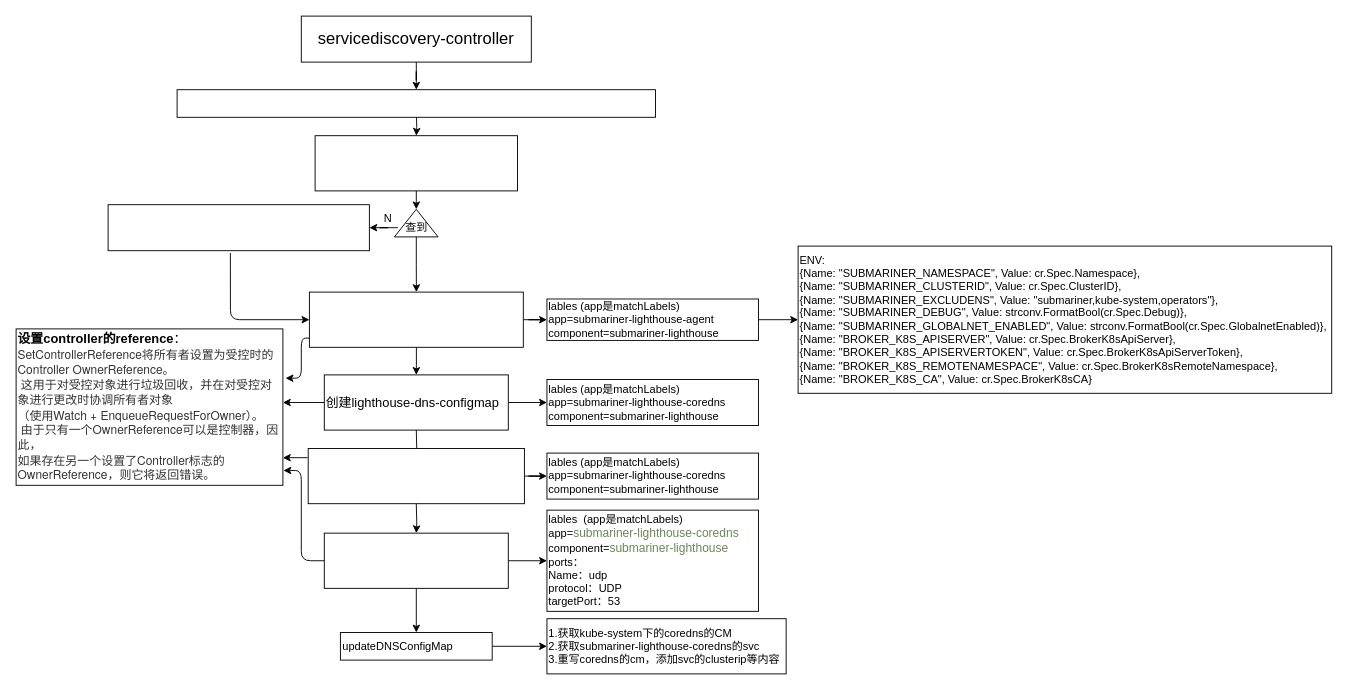
The diagram is 1348 pixels wide and 690 high, and some of its shapes have lost their labels. The shapes that lost their labels are listed below. From the top down, each one's centre as x and y in pixels, then its label:
point 416,103: watch serviceDiscovery（v1alpha1）、 appsv1.Deployments
point 416,163: 获取servicediscovery实例
point 238,227: 删除此ns下app=submariner-lighthouse-agent的deployment
point 415,319: 创建lighthouse-agent的deployment
point 415,476: 创建lighthouse-coreDns-deployment
point 415,560: 创建lighthouse-coreDns-servcie
